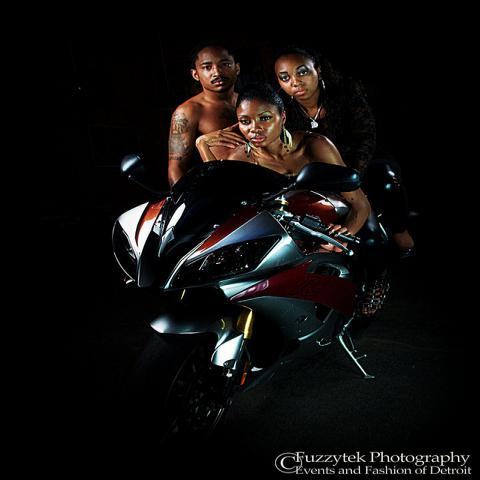motorcycle: (117, 155, 386, 449)
